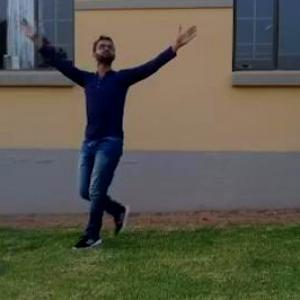takeoff: (16, 22, 200, 246)
